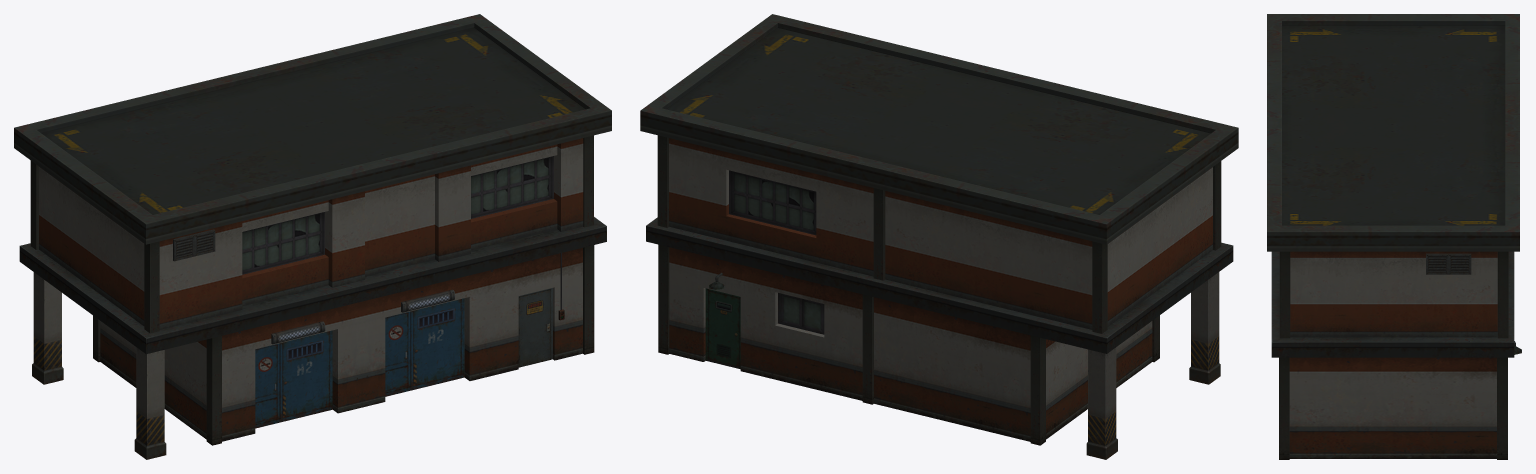
The model's file is Stage-gongchang-fangzi2.FBX.
The picture shows the model from 3 angles, left to right: view 1: azimuth 30°, elevation 25°; view 2: azimuth 150°, elevation 25°; view 3: azimuth 270°, elevation 25°; orthographic projection. The views are drawn at different scales.
Parts seen in each view (by area): view 1: Object63; view 2: Object63; view 3: Object63.
Part boxes in pixels (bbox=[...]): Object63: bbox=[14, 14, 611, 459]; Object63: bbox=[640, 14, 1238, 459]; Object63: bbox=[1267, 14, 1521, 459].
Bounding box in the file's own units: 26.83 × 13.26 × 13.44.
